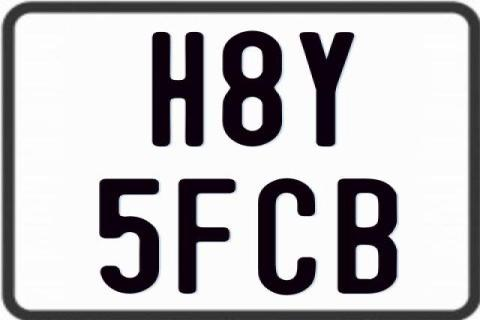0: (222, 29, 283, 150), (99, 179, 161, 297)
B: (337, 176, 401, 296)
C: (258, 176, 321, 294)
F: (176, 176, 234, 295)
H: (152, 31, 206, 149)
Y: (299, 31, 359, 148)
